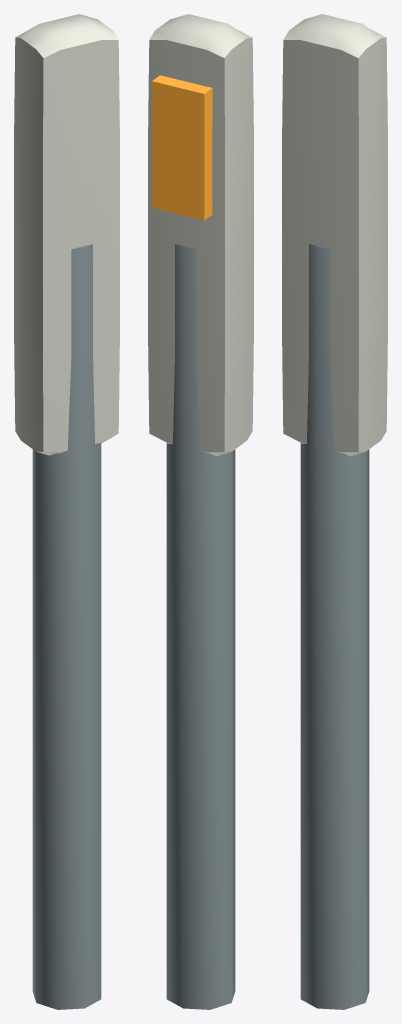
The model's file is road_sign_reflective_marker.glb.
3 renders of one model, left to right at view 1: azimuth 30°, elevation 25°; view 2: azimuth 150°, elevation 25°; view 3: azimuth 330°, elevation 25°, orthographic.
Parts seen in each view (by area): view 1: pole, sign_board; view 2: pole, sign_board, reflector; view 3: pole, sign_board.
Boxes of the visible parts, <box> form: pole: <box>32,244,101,1009</box>; sign_board: <box>14,14,119,455</box>; pole: <box>166,244,235,1009</box>; sign_board: <box>148,14,253,455</box>; reflector: <box>152,75,212,220</box>; pole: <box>300,244,369,1009</box>; sign_board: <box>282,14,387,455</box>.
Bounding box in the file's own units: 0.1 × 1.15 × 0.087.
